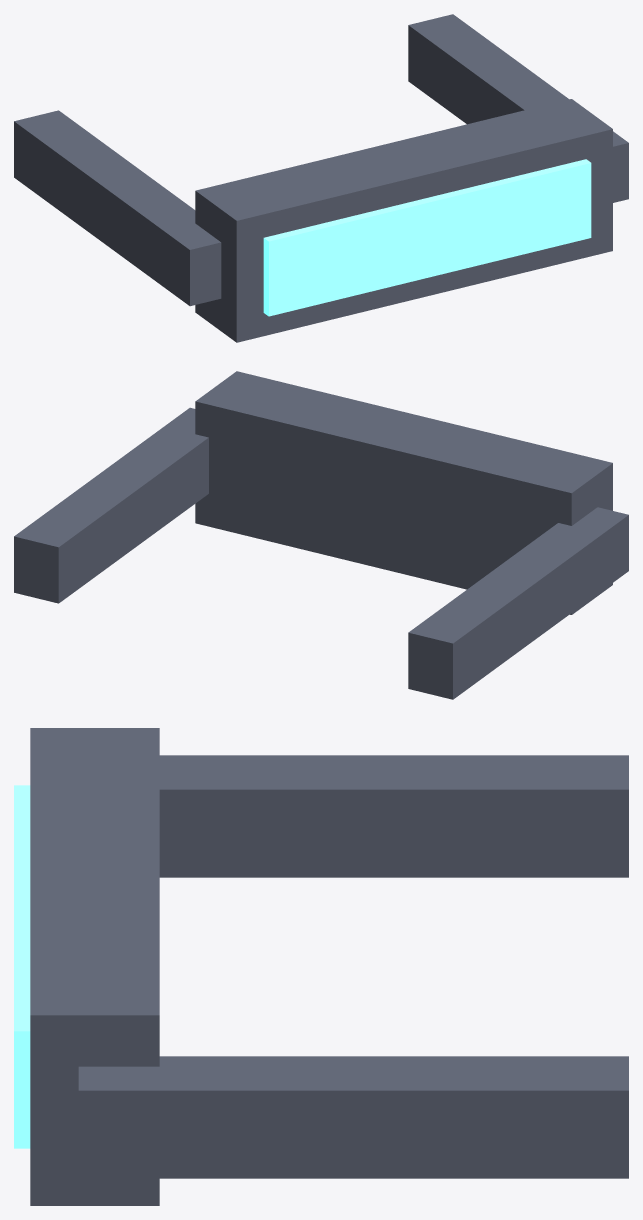
Rendered from visor_cyber.glb.
3 renders of one model, top to bottom at view 1: azimuth 30°, elevation 25°; view 2: azimuth 150°, elevation 25°; view 3: azimuth 270°, elevation 25°, orthographic. The views are drawn at different scales.
Parts seen in each view (by area): view 1: VisorFrame, VisorLens; view 2: VisorFrame; view 3: VisorFrame, VisorLens.
Part boxes in pixels (left/top/right/bottom): VisorFrame: left=14, top=14, right=628, bottom=342; VisorLens: left=263, top=159, right=591, bottom=316; VisorFrame: left=14, top=371, right=628, bottom=699; VisorFrame: left=30, top=728, right=628, bottom=1205; VisorLens: left=14, top=785, right=30, bottom=1148.
Bounding box in the file's own units: 0.49 × 0.13 × 0.38.
